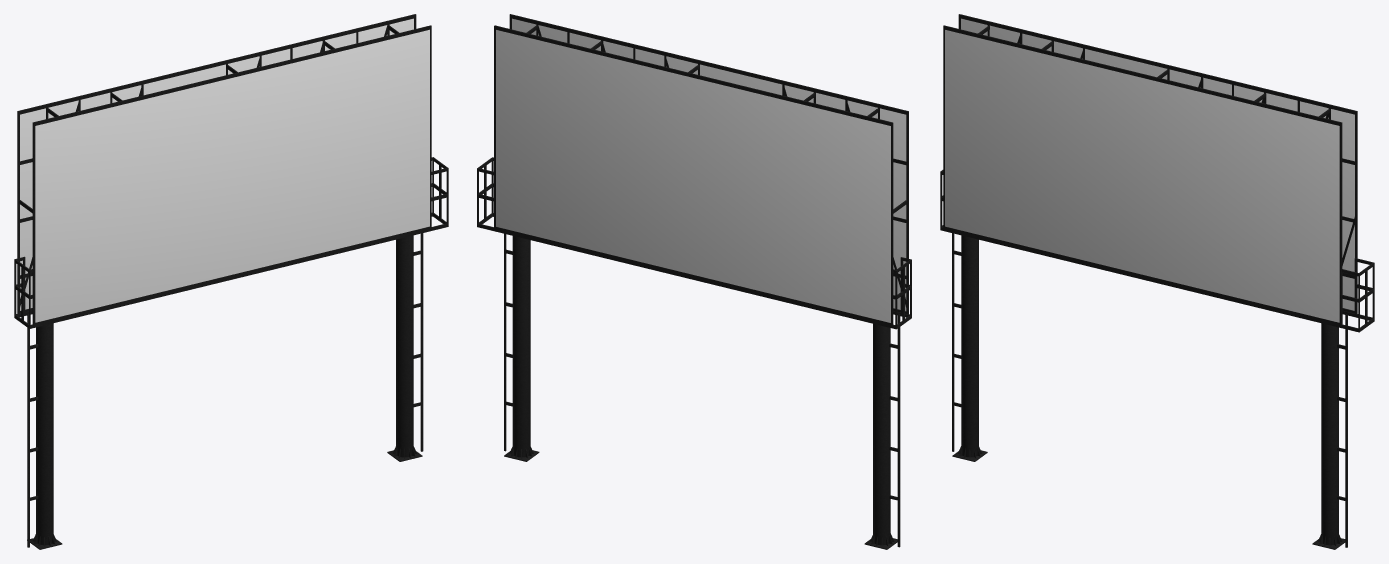
The model's file is Road_Crossing_Billboard.fbx.
3 renders of one model, left to right at view 1: azimuth 30°, elevation 25°; view 2: azimuth 150°, elevation 25°; view 3: azimuth 330°, elevation 25°, orthographic.
Visible parts, largest first — view 1: Road_Crossing_Billboard_Ad001, Road_Crossing_Billboard_Frame, Road_Crossing_Billboard_AdBacker; view 2: Road_Crossing_Billboard_Ad002, Road_Crossing_Billboard_Frame, Road_Crossing_Billboard_AdBacker; view 3: Road_Crossing_Billboard_Ad001, Road_Crossing_Billboard_Frame, Road_Crossing_Billboard_AdBacker.
Boxes of the visible parts, bbox=[...] form: Road_Crossing_Billboard_Ad001: bbox=[35, 29, 429, 322]; Road_Crossing_Billboard_Frame: bbox=[14, 14, 448, 549]; Road_Crossing_Billboard_AdBacker: bbox=[20, 18, 413, 310]; Road_Crossing_Billboard_Ad002: bbox=[496, 30, 890, 322]; Road_Crossing_Billboard_Frame: bbox=[477, 14, 911, 549]; Road_Crossing_Billboard_AdBacker: bbox=[512, 18, 906, 311]; Road_Crossing_Billboard_Ad001: bbox=[945, 30, 1339, 322]; Road_Crossing_Billboard_Frame: bbox=[940, 14, 1374, 549]; Road_Crossing_Billboard_AdBacker: bbox=[961, 18, 1354, 310].
Size of the model in its own units: 904 by 887 by 60.56.
4 materials, 3 textured.
